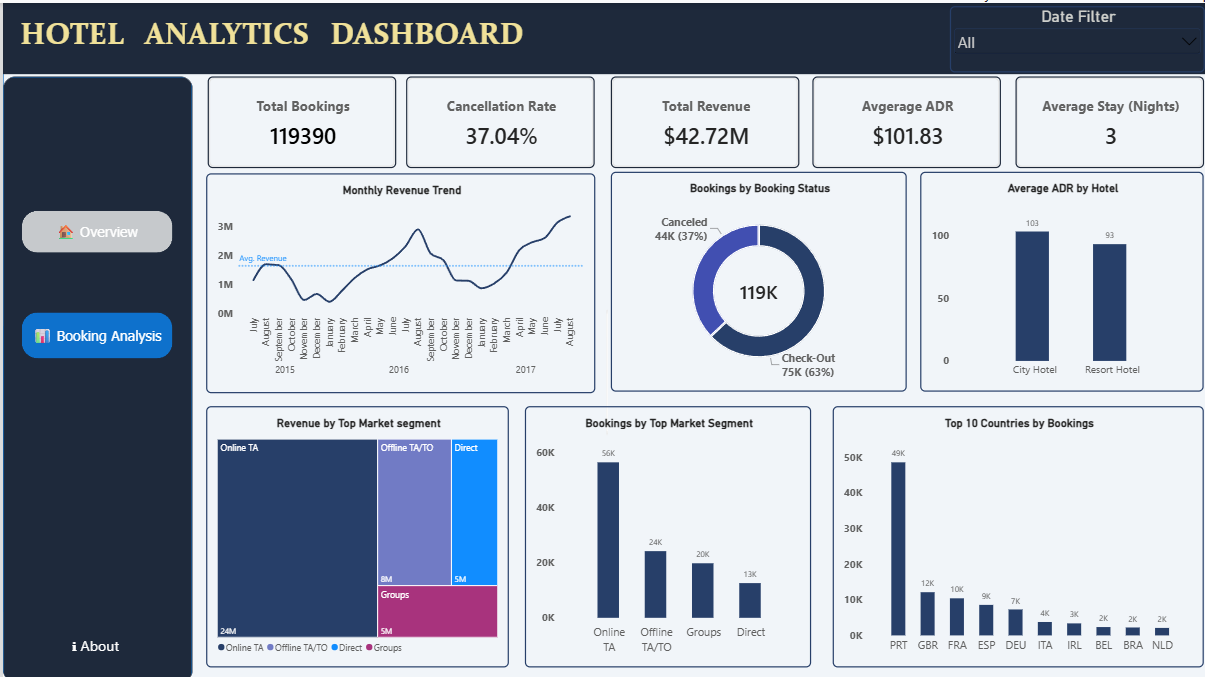

Layout of this report page (visuals, bound fields, positions):
{"tool":"powerbi","page":{"name":"🏠 Overview","canvas":[1920,1080],"ordinal":0},"visuals":[{"type":"shape","box":[0,0,1920,1080],"z":0},{"type":"cardVisual","fields":{"Data":["_measures.total_revenue"]},"box":[960.7,488.6,3.3,201.4],"z":1000},{"type":"shape","box":[0,115.9,302.3,964.7],"z":2000},{"type":"actionButton","box":[30,330,240,66.7],"z":3000},{"type":"actionButton","box":[30,493.3,240,73.3],"z":4000},{"type":"actionButton","box":[26.7,993.3,240,63.3],"z":5000},{"type":"cardVisual","fields":{"Data":["_measures.total_bookings"]},"box":[324.9,115.9,300,146.1],"z":6000},{"type":"cardVisual","fields":{"Data":["Avg(gold hotel_data.adr)"]},"box":[1287.2,115.9,300,146.1],"z":7000},{"type":"cardVisual","fields":{"Data":["_measures.total_revenue"]},"box":[967.3,115.9,300,146.1],"z":8000},{"type":"cardVisual","fields":{"Data":["_measures.cancellation_rate"]},"box":[642.3,115.9,300,146.1],"z":9000},{"type":"cardVisual","fields":{"Data":["Avg(gold hotel_data.total_stay_nights)"]},"box":[1612.1,115.9,300,146.1],"z":10000},{"type":"lineChart","title":"Monthly Revenue Trend","fields":{"Y":["_measures.total_revenue"],"Category":["gold hotel_data.arrival_date.Variation.Date Hierarchy.Year","gold hotel_data.arrival_date.Variation.Date Hierarchy.Month"]},"box":[322.4,272,619.7,350.1],"z":11000},{"type":"treemap","title":"Revenue by Top Market segment","fields":{"Group":["gold hotel_data.market_segment"],"Values":["_measures.total_revenue"]},"box":[323.5,640.4,482,416],"z":12000},{"type":"clusteredColumnChart","title":"Bookings by Top Market Segment","fields":{"Category":["gold hotel_data.market_segment"],"Y":["_measures.total_bookings"]},"box":[831.9,640.4,455.6,416],"z":13000},{"type":"donutChart","title":"Bookings by Booking Status","fields":{"Category":["gold hotel_data.booking_status"],"Y":["_measures.total_bookings"]},"box":[967.3,269.5,471,350.1],"z":14000},{"type":"shape","box":[0,0,1920,113.4],"z":15000},{"type":"textbox","box":[27.7,20.2,818.6,68],"z":16000},{"type":"slicer","title":"Date Filter","fields":{"Values":["gold hotel_data.arrival_date.Variation.Date Hierarchy.Year","gold hotel_data.arrival_date.Variation.Date Hierarchy.Month"]},"box":[1506.3,5,405.5,105.8],"z":17000},{"type":"columnChart","title":"Top 10 Countries by Bookings","fields":{"Y":["_measures.total_bookings"],"Category":["gold hotel_data.country"]},"box":[1320.5,640.4,590.9,416],"z":18000},{"type":"columnChart","title":"Average ADR by Hotel","fields":{"Y":["Avg(gold hotel_data.adr)"],"Category":["gold hotel_data.hotel"]},"box":[1461,269.5,450.9,350.1],"z":19000}]}

Visuals, with their boxes in screenshot pixels (x1, y1, x2, y2), scaled from the page's 1920x1080 canvas onto the 1205x677 screenshot:
shape: l=0, t=0, r=1204, b=676
cardVisual - _measures.total_revenue: l=603, t=306, r=605, b=433
shape: l=0, t=73, r=190, b=676
actionButton: l=19, t=207, r=169, b=249
actionButton: l=19, t=309, r=169, b=355
actionButton: l=17, t=623, r=167, b=662
cardVisual - _measures.total_bookings: l=204, t=73, r=392, b=164
cardVisual - Avg(gold hotel_data.adr): l=808, t=73, r=996, b=164
cardVisual - _measures.total_revenue: l=607, t=73, r=795, b=164
cardVisual - _measures.cancellation_rate: l=403, t=73, r=591, b=164
cardVisual - Avg(gold hotel_data.total_stay_nights): l=1012, t=73, r=1200, b=164
"Monthly Revenue Trend" lineChart: l=202, t=171, r=591, b=390
"Revenue by Top Market segment" treemap: l=203, t=401, r=506, b=662
"Bookings by Top Market Segment" clusteredColumnChart: l=522, t=401, r=808, b=662
"Bookings by Booking Status" donutChart: l=607, t=169, r=903, b=388
shape: l=0, t=0, r=1204, b=71
textbox: l=17, t=13, r=531, b=55
"Date Filter" slicer: l=945, t=3, r=1200, b=69
"Top 10 Countries by Bookings" columnChart: l=829, t=401, r=1200, b=662
"Average ADR by Hotel" columnChart: l=917, t=169, r=1200, b=388
